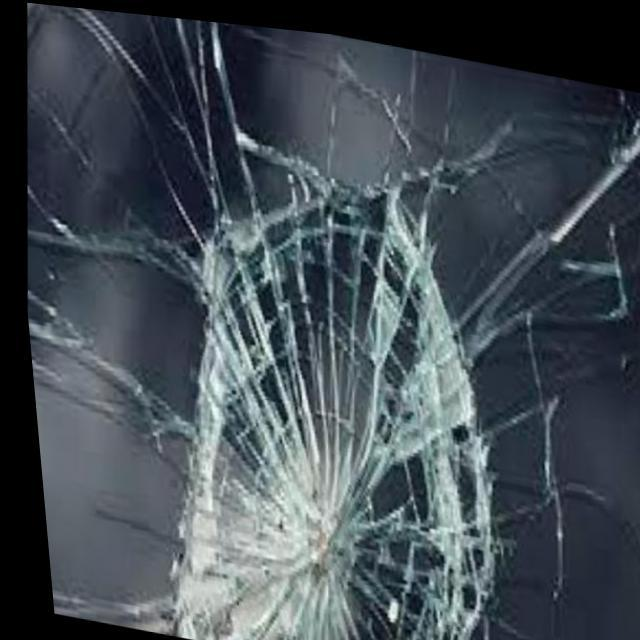glass shatter: (172, 182, 491, 640)
